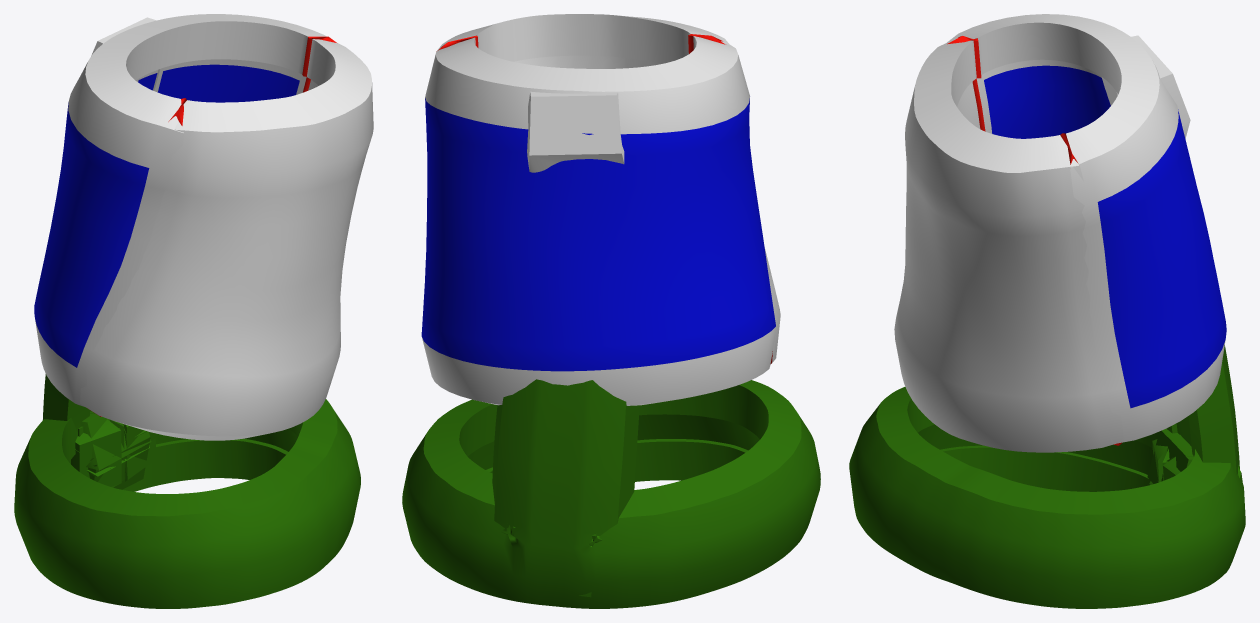
File: TEST_BRACELETfbx.fbx
The picture shows the model from 3 angles, left to right: view 1: azimuth 30°, elevation 25°; view 2: azimuth 150°, elevation 25°; view 3: azimuth 270°, elevation 25°; orthographic projection.
Parts seen in each view (by area): view 1: Bracelet_low.003; view 2: Bracelet_low.003; view 3: Bracelet_low.003.
Boxes of the visible parts, <box> form: Bracelet_low.003: <box>14,14,373,608</box>; Bracelet_low.003: <box>402,14,820,608</box>; Bracelet_low.003: <box>849,14,1245,608</box>.
Bounding box in the file's own units: 17.82 × 25.54 × 18.33.
